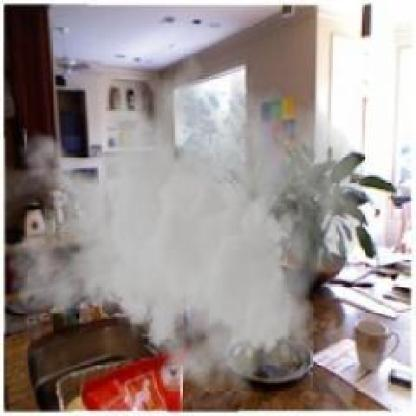Smoke: (5, 32, 366, 401)
